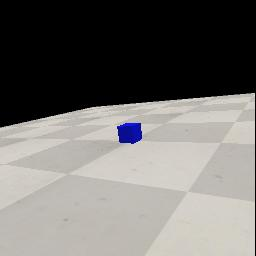box: (117, 123, 142, 144)
